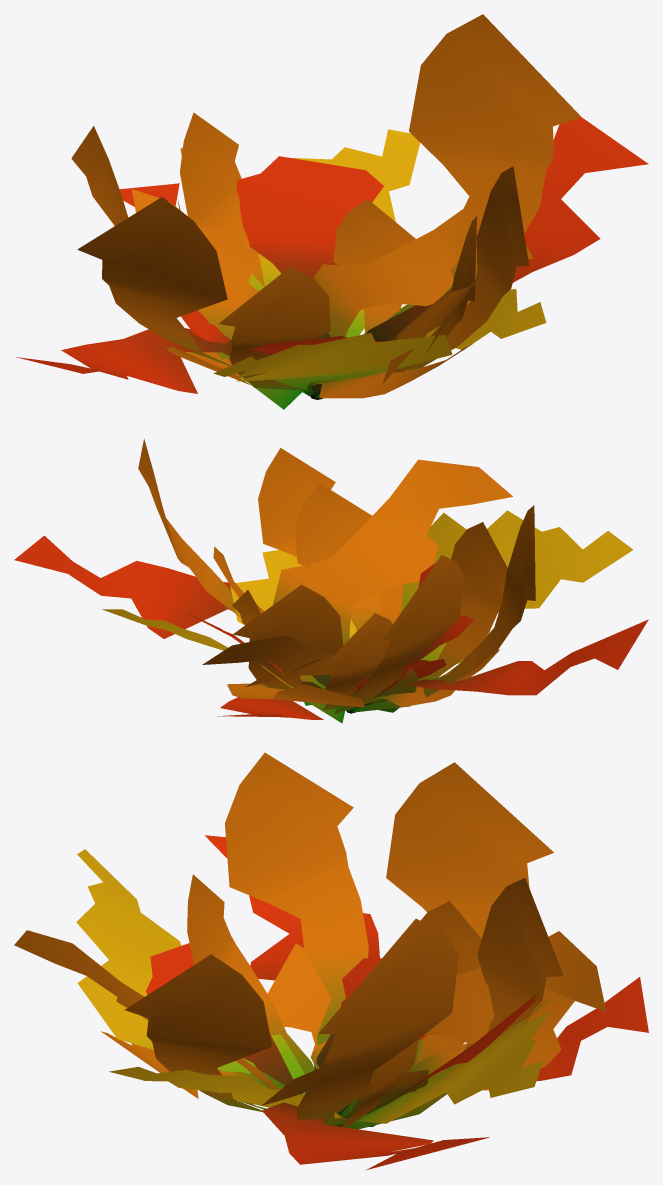
The model's file is SM_PlantOrb_Base.fbx.
3 renders of one model, top to bottom at view 1: azimuth 30°, elevation 25°; view 2: azimuth 150°, elevation 25°; view 3: azimuth 270°, elevation 25°, orthographic. The views are drawn at different scales.
Visible parts, largest first — view 1: Seaweed_LOD0_Var1_sdmmR_1.002; view 2: Seaweed_LOD0_Var1_sdmmR_1.002; view 3: Seaweed_LOD0_Var1_sdmmR_1.002.
Boxes of the visible parts, box(x1,y1,x2,y2) form: Seaweed_LOD0_Var1_sdmmR_1.002: box(16, 14, 648, 409); Seaweed_LOD0_Var1_sdmmR_1.002: box(14, 438, 648, 723); Seaweed_LOD0_Var1_sdmmR_1.002: box(14, 752, 648, 1170).
Bounding box in the file's own units: 75.52 × 33.23 × 59.31.
